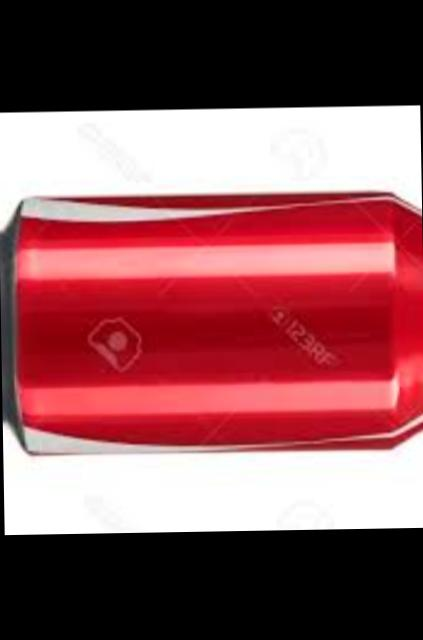metal: (0, 190, 423, 448)
